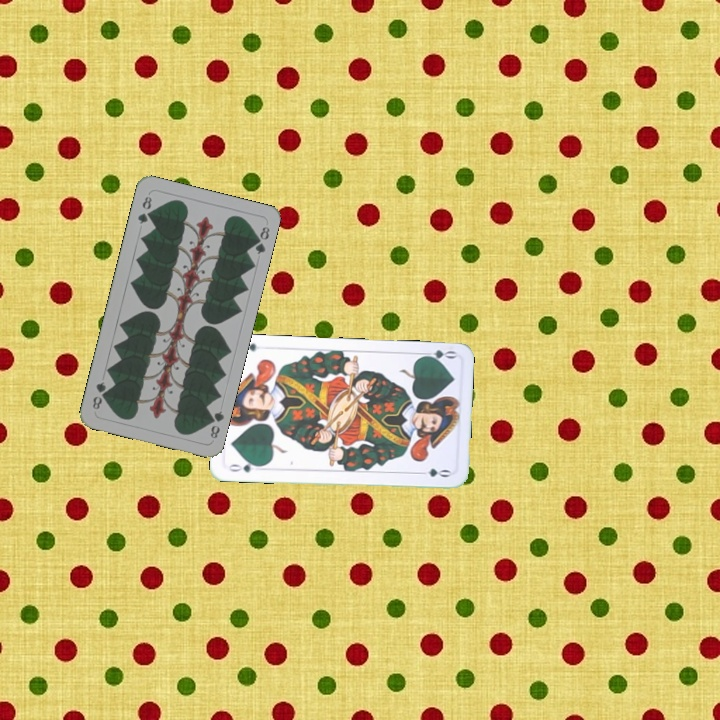G8: (204, 407, 227, 441), (134, 192, 154, 227)
GO: (417, 346, 458, 364), (224, 458, 265, 475)
